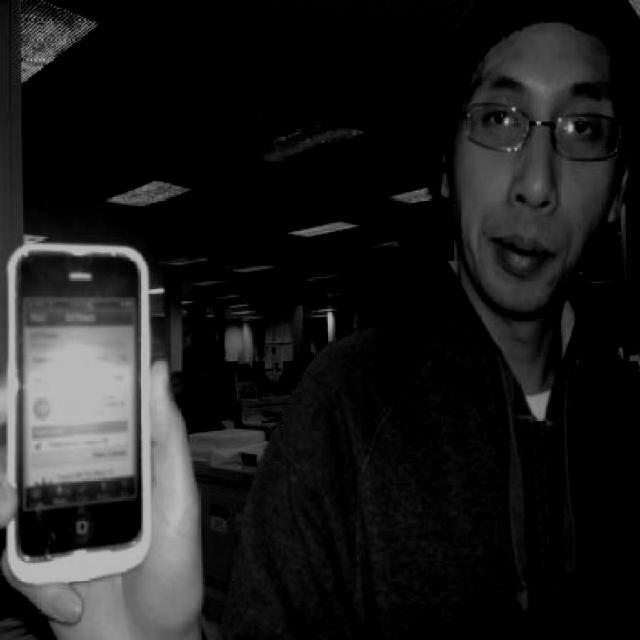fake: (4, 240, 158, 606)
